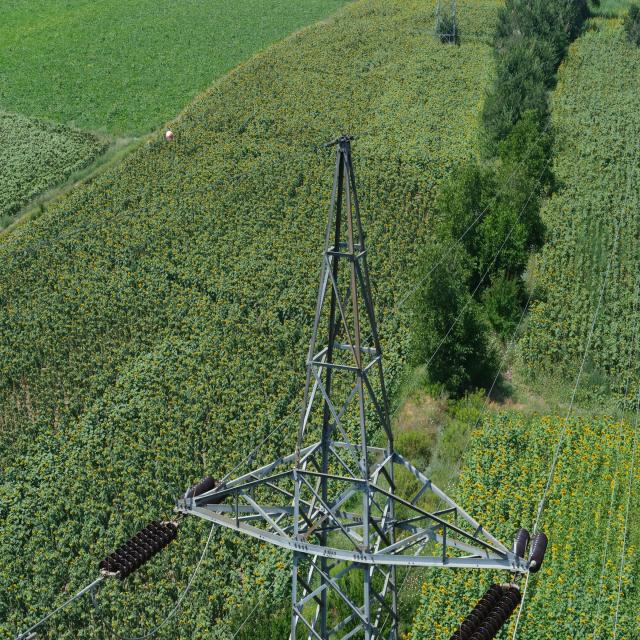direk: (289, 139, 402, 640)
tree: (417, 157, 488, 381), (474, 110, 557, 297), (492, 0, 574, 111)
